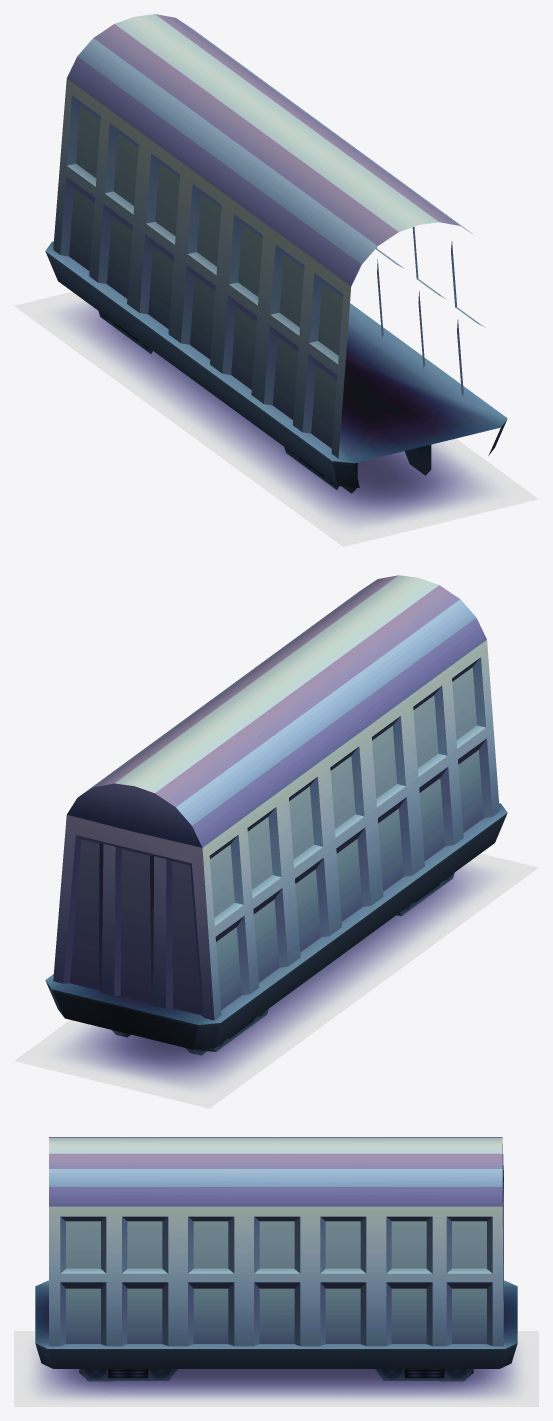
File: 1.100_SanFrancisco_train_cargo.glb
The picture shows the model from 3 angles, top to bottom: view 1: azimuth 30°, elevation 25°; view 2: azimuth 150°, elevation 25°; view 3: azimuth 270°, elevation 25°; orthographic projection. The views are drawn at different scales.
Visible parts, largest first — view 1: 1.100_SanFrancisco_train_cargo, shadow; view 2: 1.100_SanFrancisco_train_cargo, shadow; view 3: 1.100_SanFrancisco_train_cargo, shadow.
Boxes of the visible parts, x1=… form: 1.100_SanFrancisco_train_cargo: x1=45, y1=14, x2=507, y2=493; shadow: x1=14, y1=291, x2=538, y2=546; 1.100_SanFrancisco_train_cargo: x1=45, y1=575, x2=507, y2=1055; shadow: x1=14, y1=853, x2=538, y2=1108; 1.100_SanFrancisco_train_cargo: x1=35, y1=1137, x2=517, y2=1381; shadow: x1=14, y1=1331, x2=538, y2=1406.
Bounding box in the file's own units: 20.58 × 28.35 × 60.
Materials: 2 (2 with a texture image).
